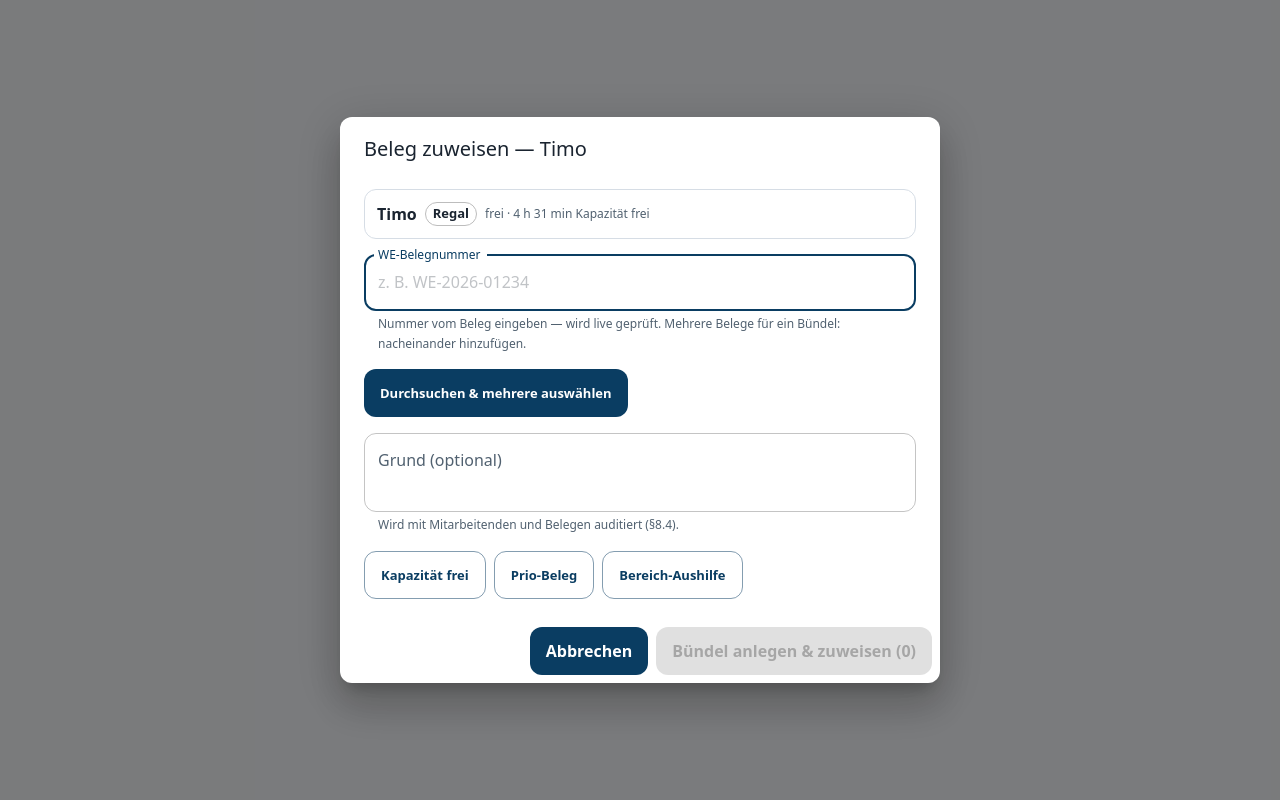
AssignDialog › still renders the exact-match not_found message when nothing matches
Step 1. Type "WE-DOES-NOT-EXIST" into the field labelled "WE-Belegnummer" → (640, 283), box [364, 255, 916, 311]
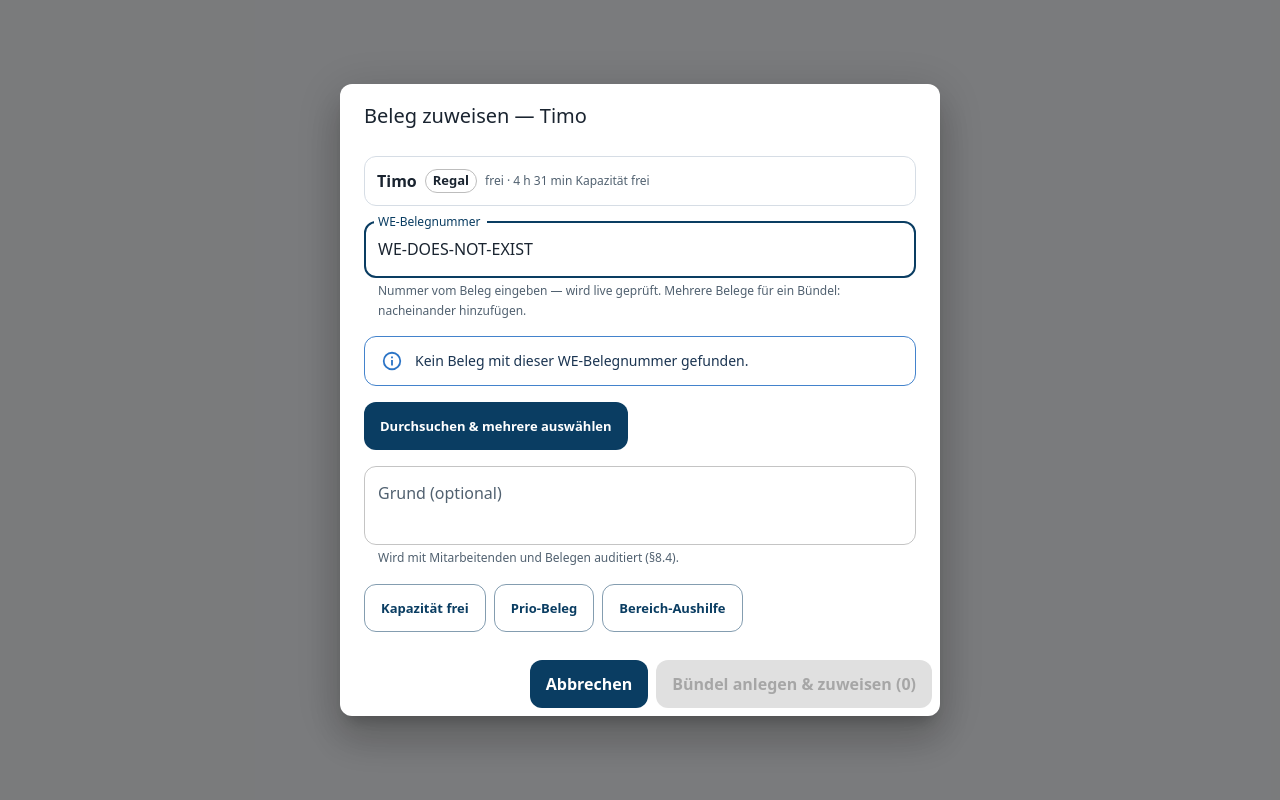
expect the text "Kein Beleg mit dieser WE-Belegnummer gefunden." is shown: met, box [415, 351, 748, 370]
